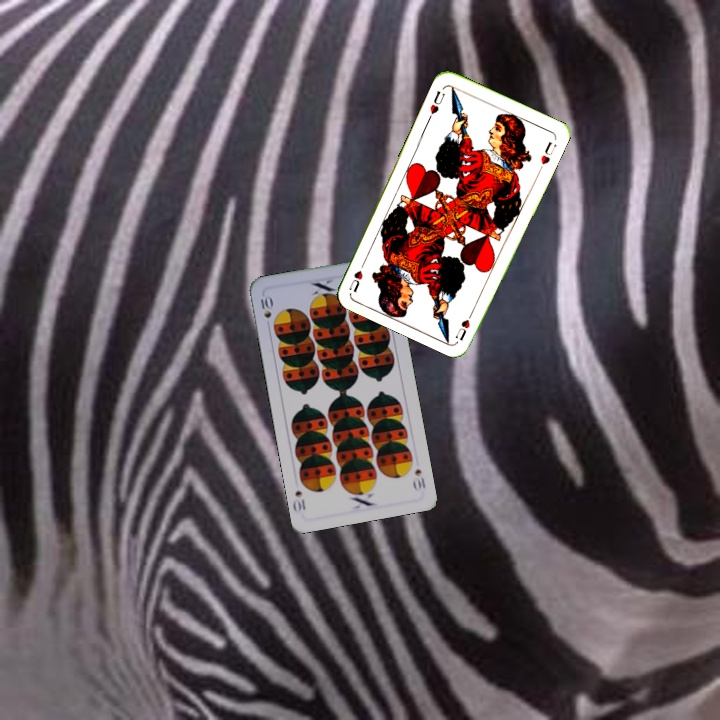HU: (451, 305, 477, 343), (424, 86, 447, 122)
S10: (256, 291, 275, 331), (409, 465, 428, 493)
